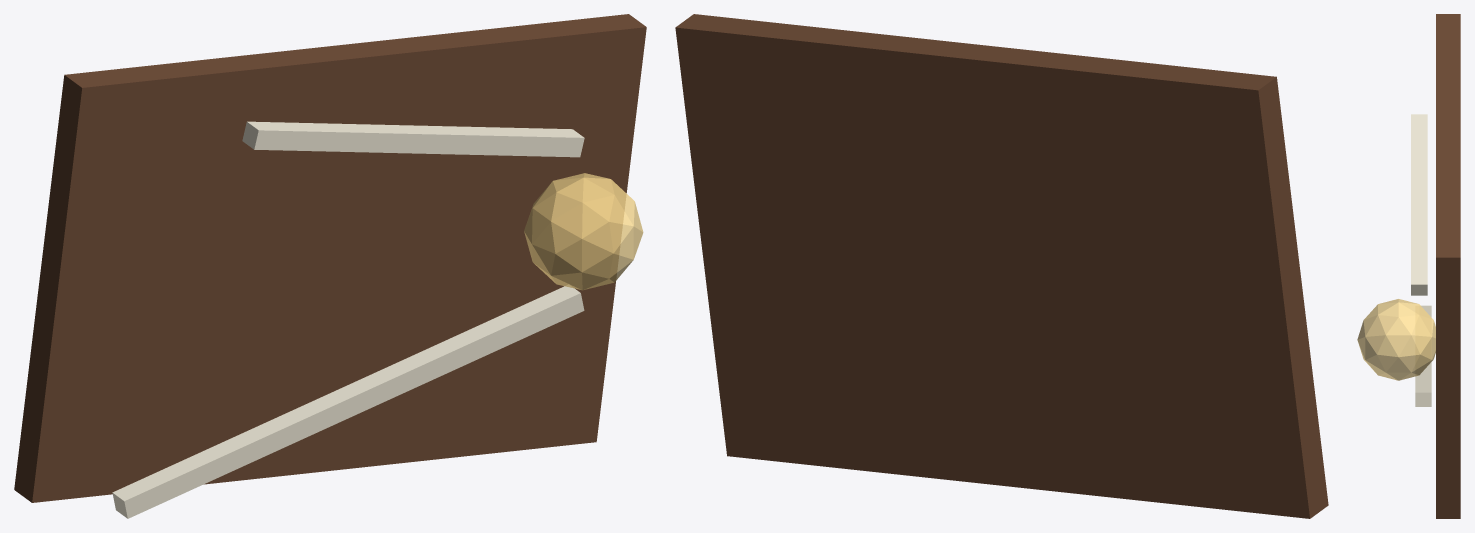
File: 02_world_prop_polish.glb
The picture shows the model from 3 angles, left to right: view 1: azimuth 30°, elevation 25°; view 2: azimuth 150°, elevation 25°; view 3: azimuth 270°, elevation 25°; orthographic projection. The views are drawn at different scales.
Visible parts, largest first — view 1: object_overlay_plate, edge_wear_a, glow_socket, edge_wear_b; view 2: object_overlay_plate; view 3: object_overlay_plate, glow_socket, edge_wear_b, edge_wear_a.
Part boxes in pixels (left/top/right/bottom): object_overlay_plate: left=14, top=14, right=646, bottom=502; edge_wear_a: left=112, top=285, right=584, bottom=518; glow_socket: left=524, top=173, right=643, bottom=290; edge_wear_b: left=242, top=121, right=584, bottom=157; object_overlay_plate: left=675, top=14, right=1328, bottom=518; object_overlay_plate: left=1436, top=14, right=1460, bottom=518; glow_socket: left=1357, top=299, right=1435, bottom=380; edge_wear_b: left=1411, top=114, right=1427, bottom=295; edge_wear_a: left=1415, top=305, right=1431, bottom=406.
Size of the model in its own units: 1.19 by 0.8857 by 0.25.
